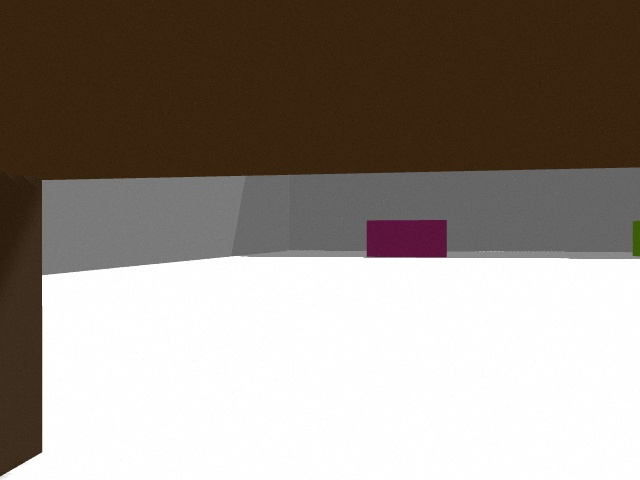green_drop_zone: (633, 221, 640, 257)
red_drop_zone: (367, 220, 447, 257)
